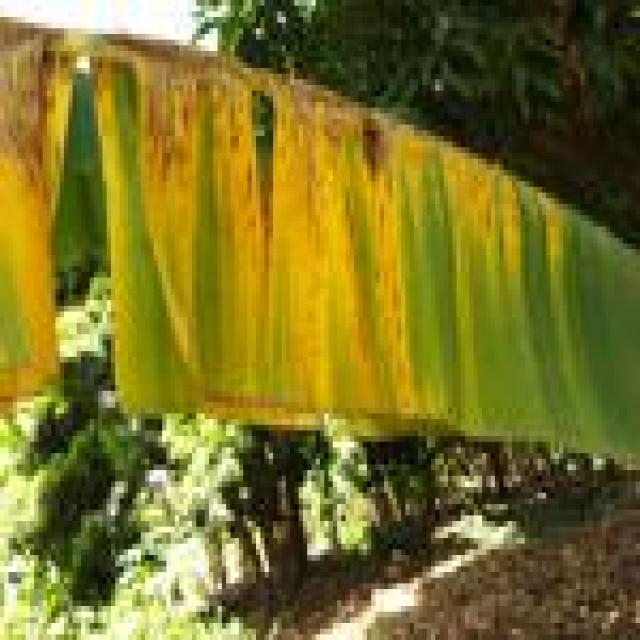Early_rust: (0, 0, 561, 499)
